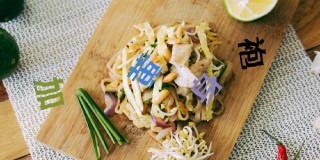加: (33, 77, 68, 110)
袍: (236, 36, 267, 71)
身: (190, 73, 222, 105)
黄: (126, 53, 163, 87)
